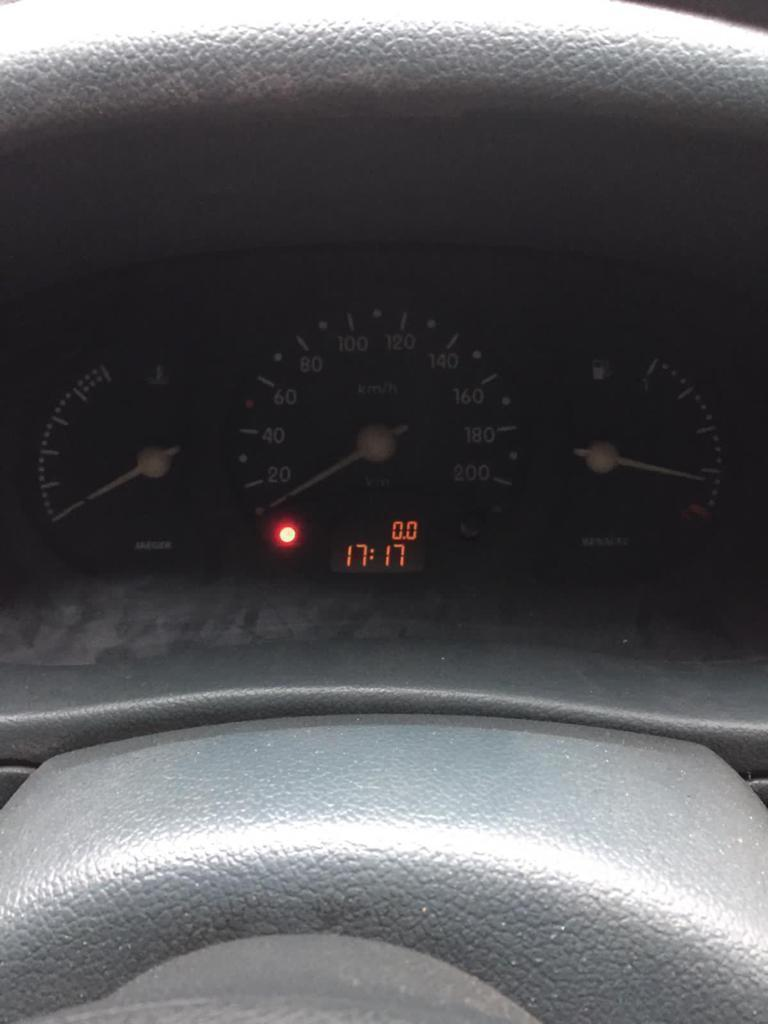,: (402, 535, 406, 540)
0: (406, 520, 418, 540), (391, 520, 402, 540)
1: (344, 542, 351, 568), (385, 543, 390, 568)
7: (354, 541, 368, 568), (393, 542, 406, 567)
X: (369, 546, 375, 561)
odometer: (325, 505, 429, 574)
